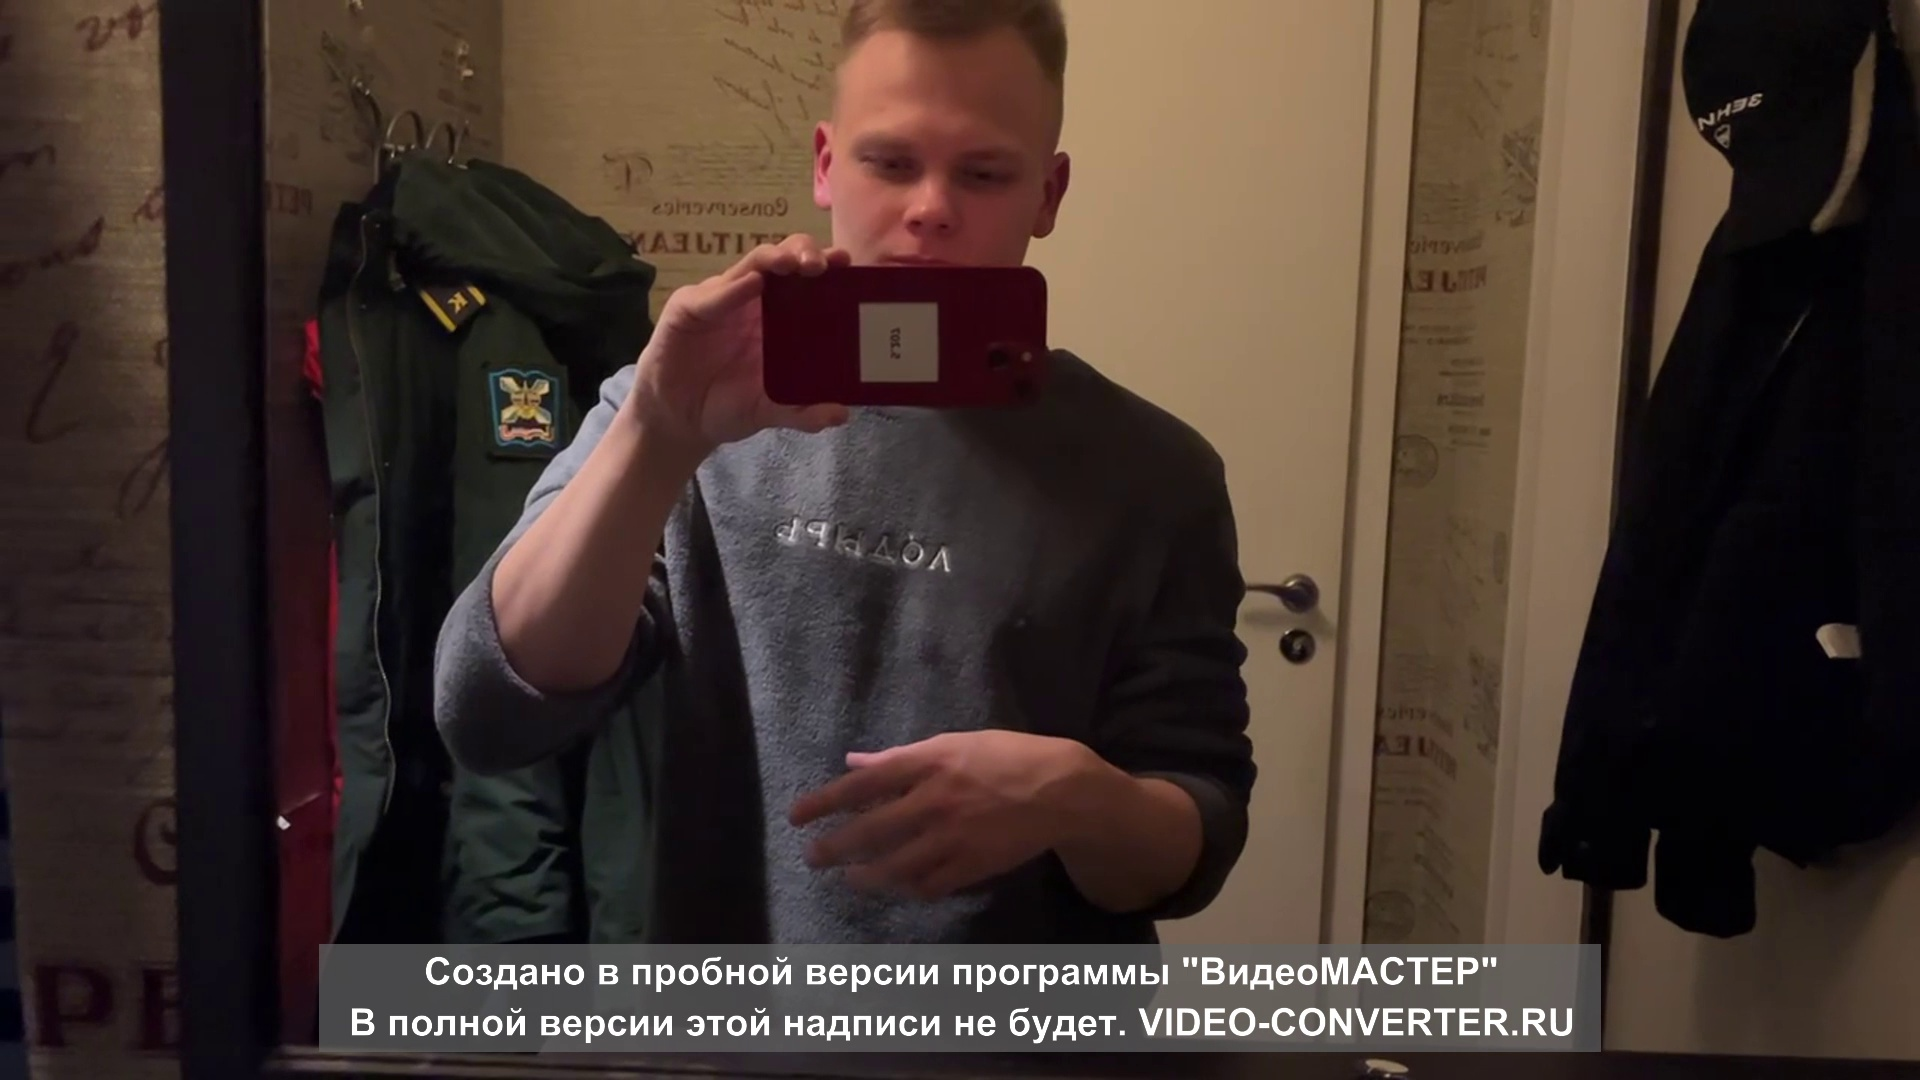Кисть: (789, 727, 1081, 894)
